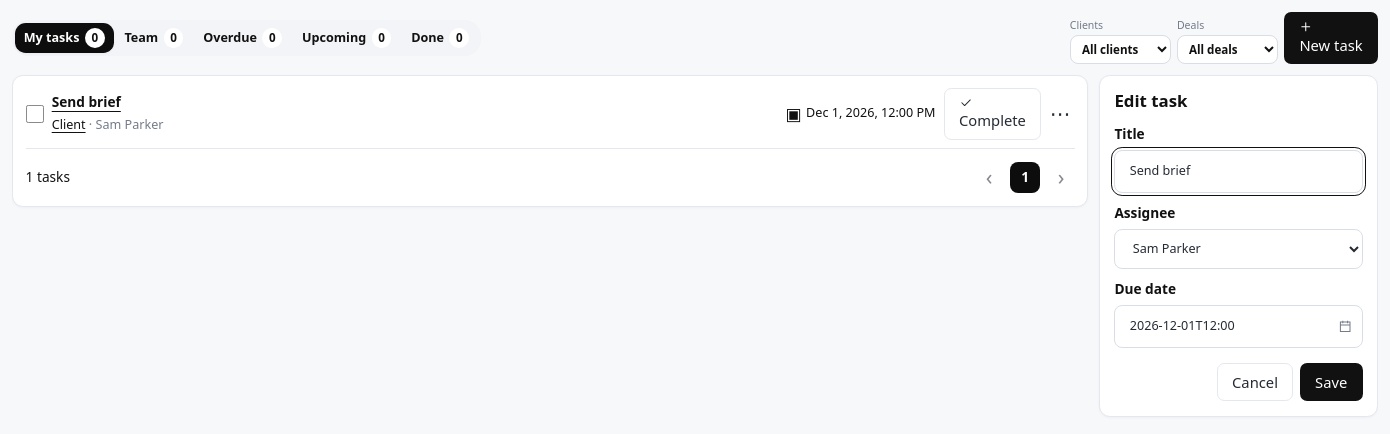
Test: completes and reopens a task using the row action
Click the button "Complete".
click(992, 114)  # box [944,88,1041,140]
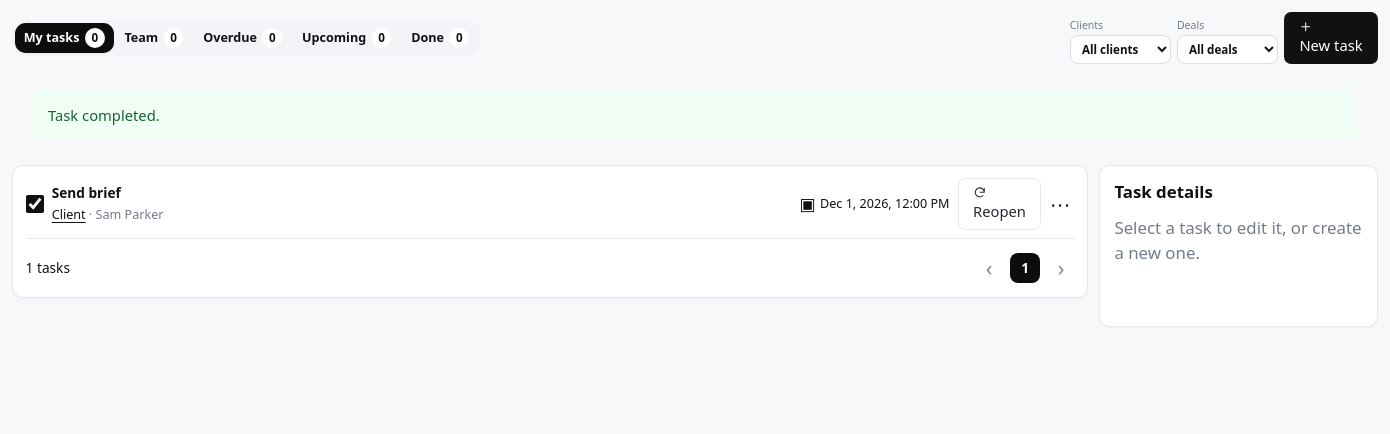
Check: the text "Task completed." is shown, box [34,89,1356,140]
Click the button "Reopen".
click(999, 204)  # box [958,178,1041,230]
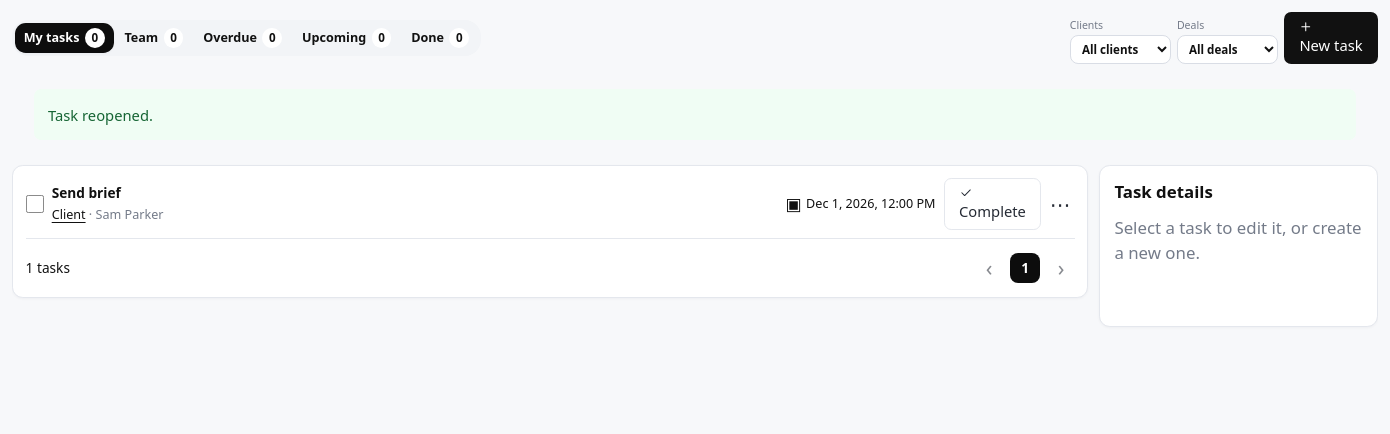
Check: the text "Task reopened." is shown, box [34,89,1356,140]
